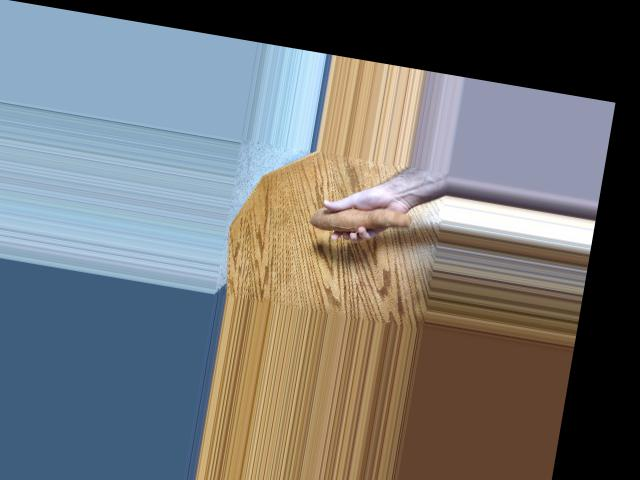sweet_potato: (306, 187, 423, 247)
